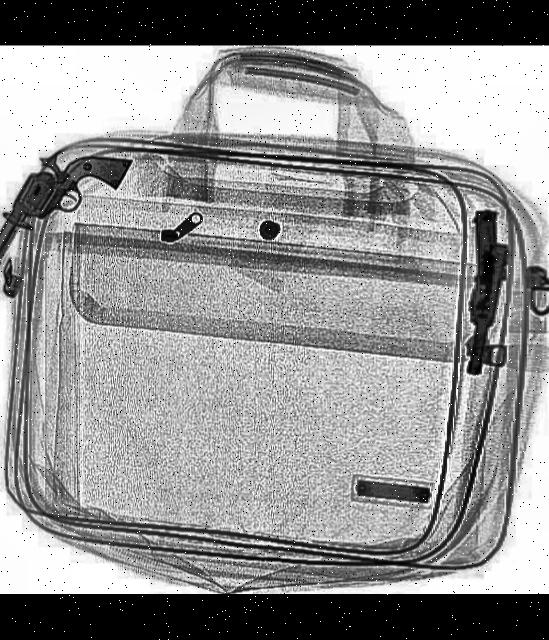Gun: (0, 122, 136, 336), (464, 210, 512, 378)
